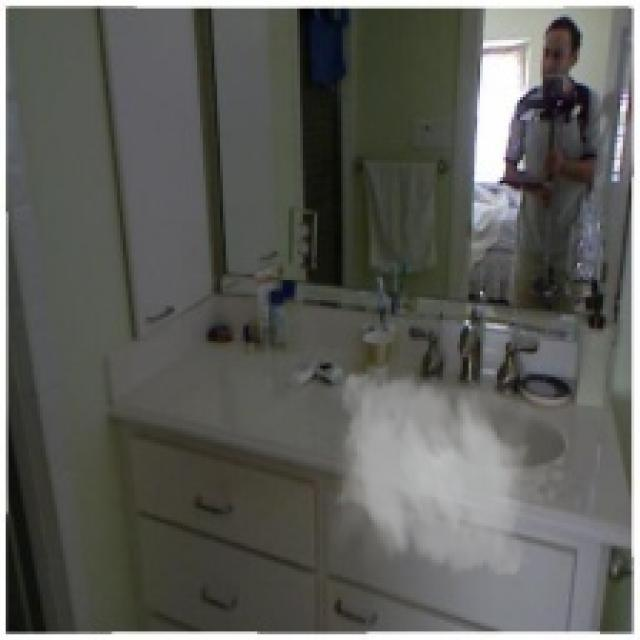Smoke: (320, 363, 540, 586)
